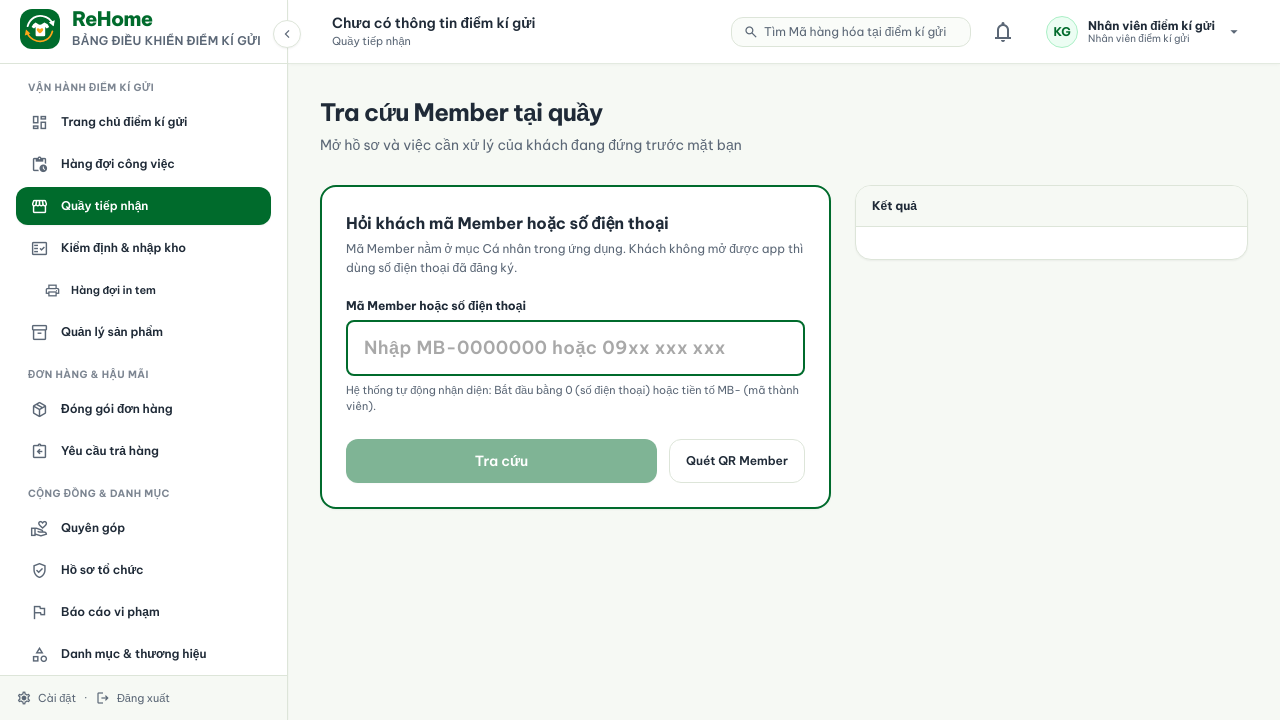
Test case: L-06 Withdrawal & Counter Handover Flow (BG-01, QT-01 to QT-03) › QT-01 & QT-02: looks up member, confirms identity, and displays 4 task categories
Expected: the heading "Tra cứu Member tại quầy" is shown, [320, 97, 603, 127]
Type "MB-004821" into the field with placeholder "Nhập MB-0000000 hoặc 09xx xxx xxx" at (576,348), box [346, 320, 805, 376]
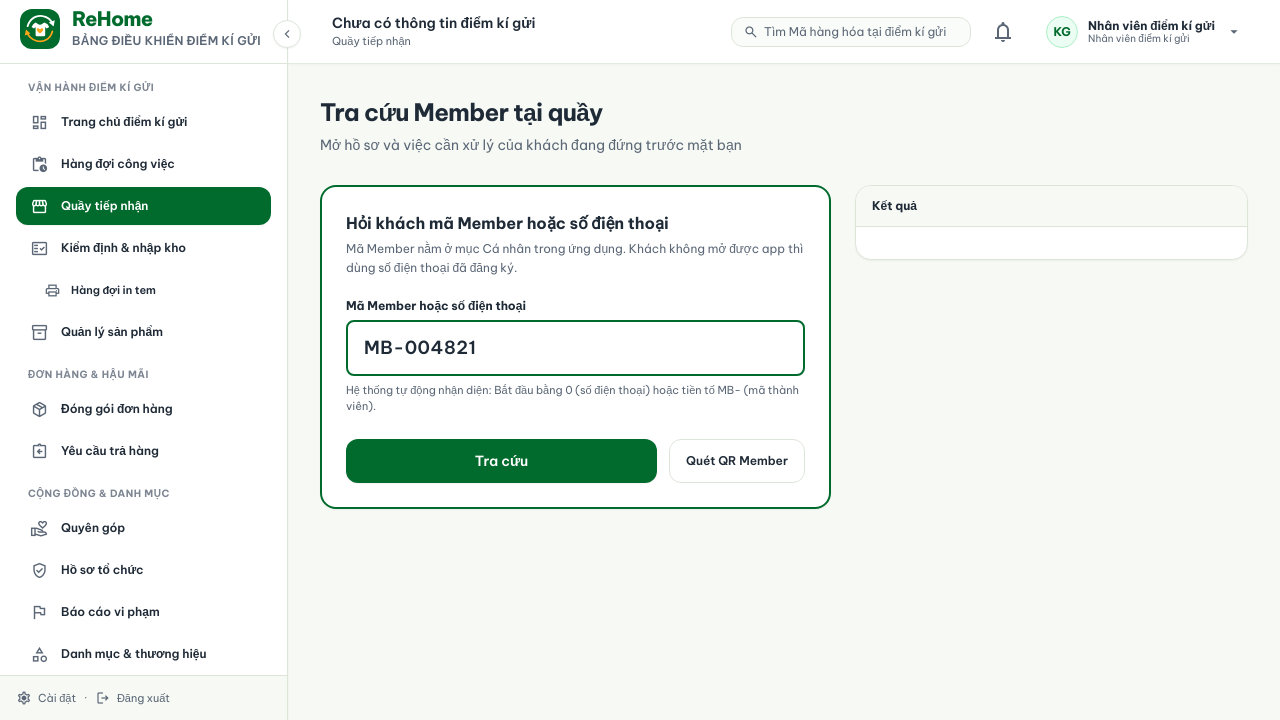
Click the button "Tra cứu" at (502,461), box [346, 439, 657, 483]
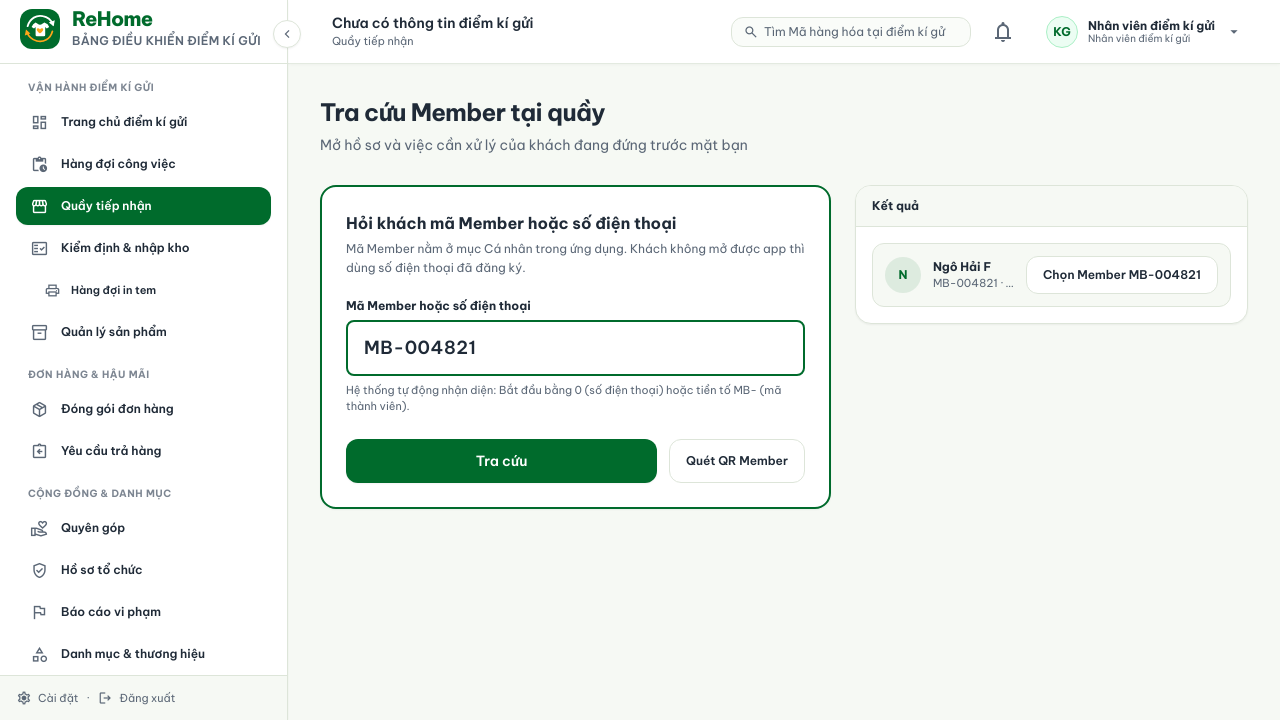
Expected: the button "Chọn Member MB-004821" is shown
Click the button "Chọn Member MB-004821" at (1122,275), box [1026, 256, 1218, 294]
(page scrolled)
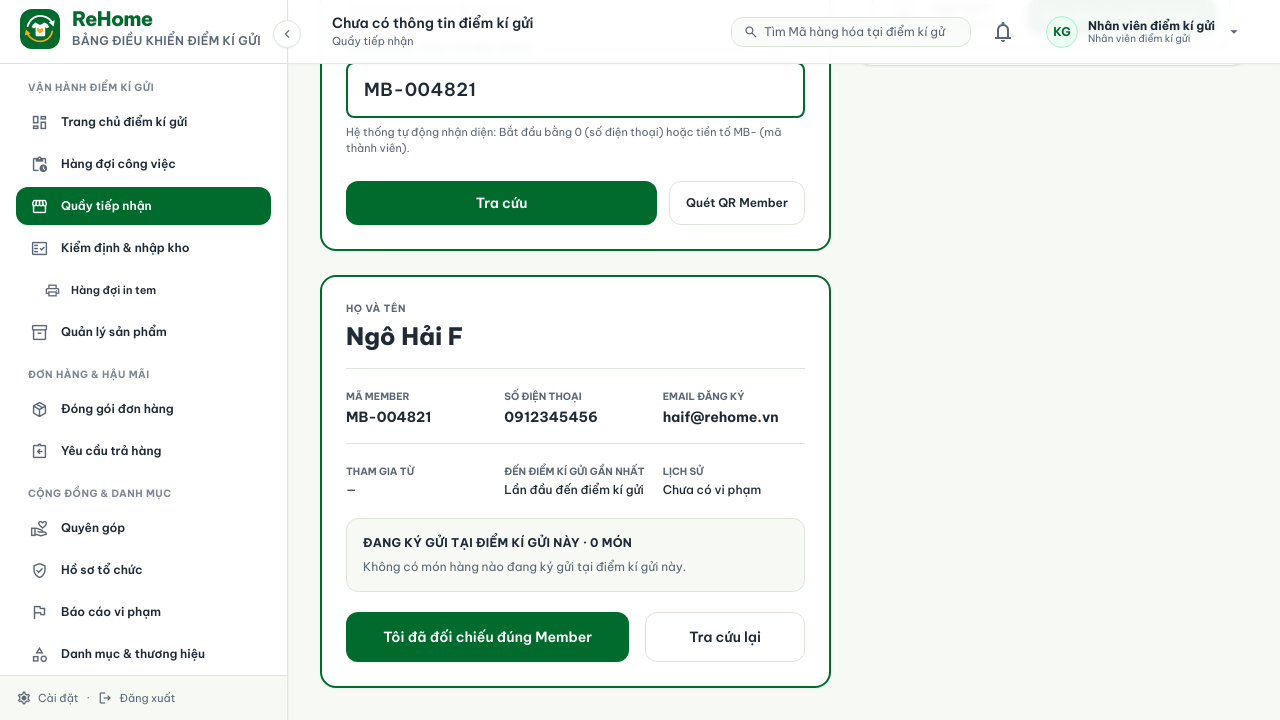
Expected: the button "Tôi đã đối chiếu đúng Member" is shown
Expected: the heading "Ngô Hải F" is shown, [346, 321, 463, 351]
# Click confirm identity
Click the button "Tôi đã đối chiếu đúng Member" at (488,637), box [346, 612, 629, 662]
(page scrolled)
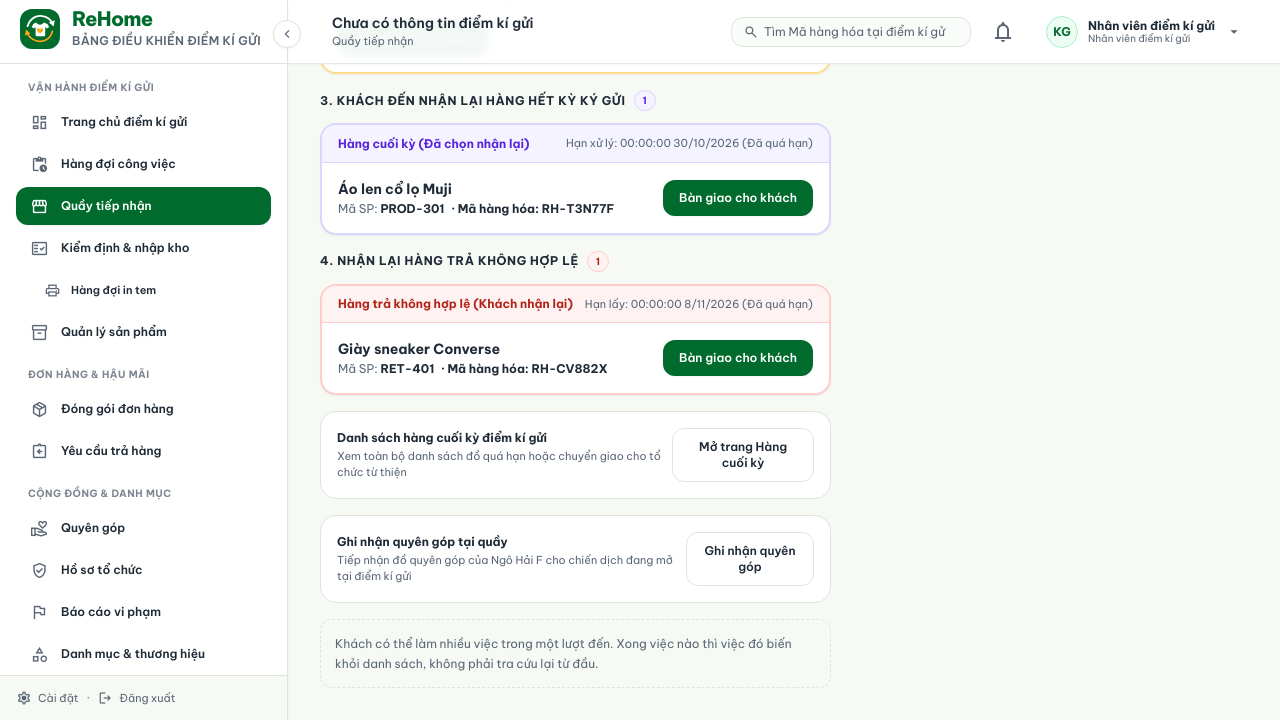
Expected: the heading "3. Khách đến nhận lại hàng hết kỳ ký gửi" is shown, [320, 93, 626, 109]
Expected: the text "· Mã hàng hóa: RH-T3N77F" is shown, [448, 201, 614, 216]
Expected: the heading "4. Nhận lại hàng trả không hợp lệ" is shown, [320, 253, 579, 269]
